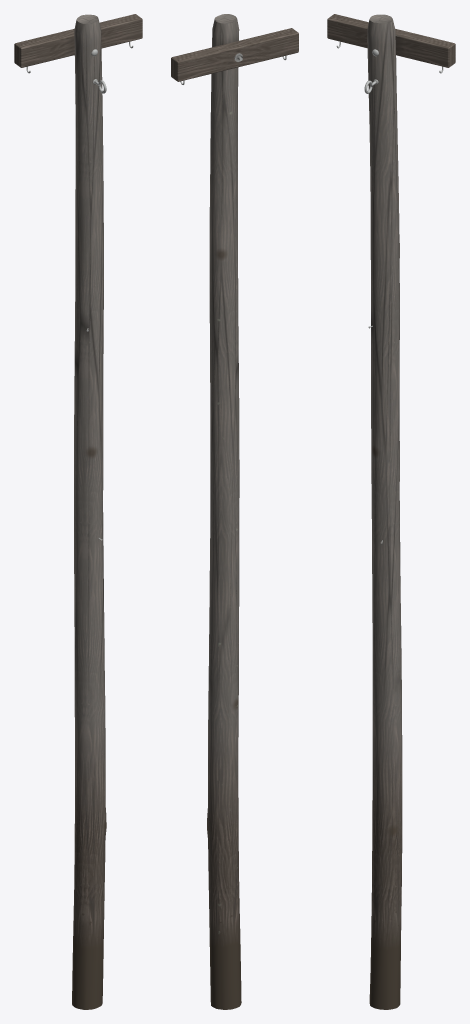
File: corner_camp_pole.glb
3 views of the same model, side by side, from view 1: azimuth 30°, elevation 25°; view 2: azimuth 210°, elevation 25°; view 3: azimuth 330°, elevation 25° (orthographic).
Parts seen in each view (by area): view 1: Pole; view 2: Pole; view 3: Pole.
Part boxes in pixels (box(x1,y1,x2,y2)): Pole: box(14, 14, 142, 1009); Pole: box(171, 14, 298, 1009); Pole: box(327, 14, 455, 1009).
Bounding box in the file's own units: 0.44 × 3.4 × 0.2075.
Materials: 1 (1 with a texture image).
